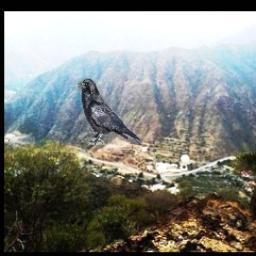Crow: (76, 79, 141, 146)
